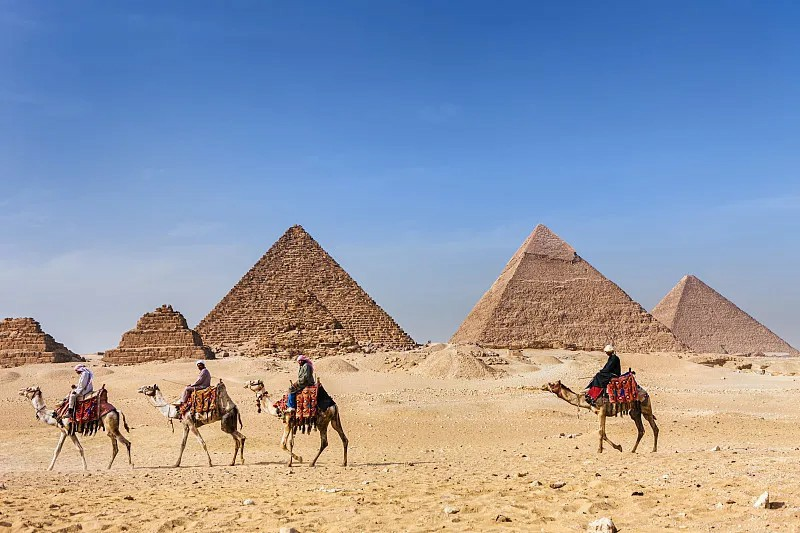Pyramid: (448, 223, 696, 353), (194, 224, 421, 356), (650, 272, 800, 358), (241, 290, 369, 355), (101, 304, 216, 362), (1, 316, 84, 363)
